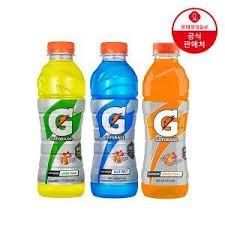gatorade_lemon: (36, 39, 87, 199)
